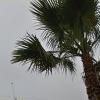Palm tree: (26, 5, 99, 99)
